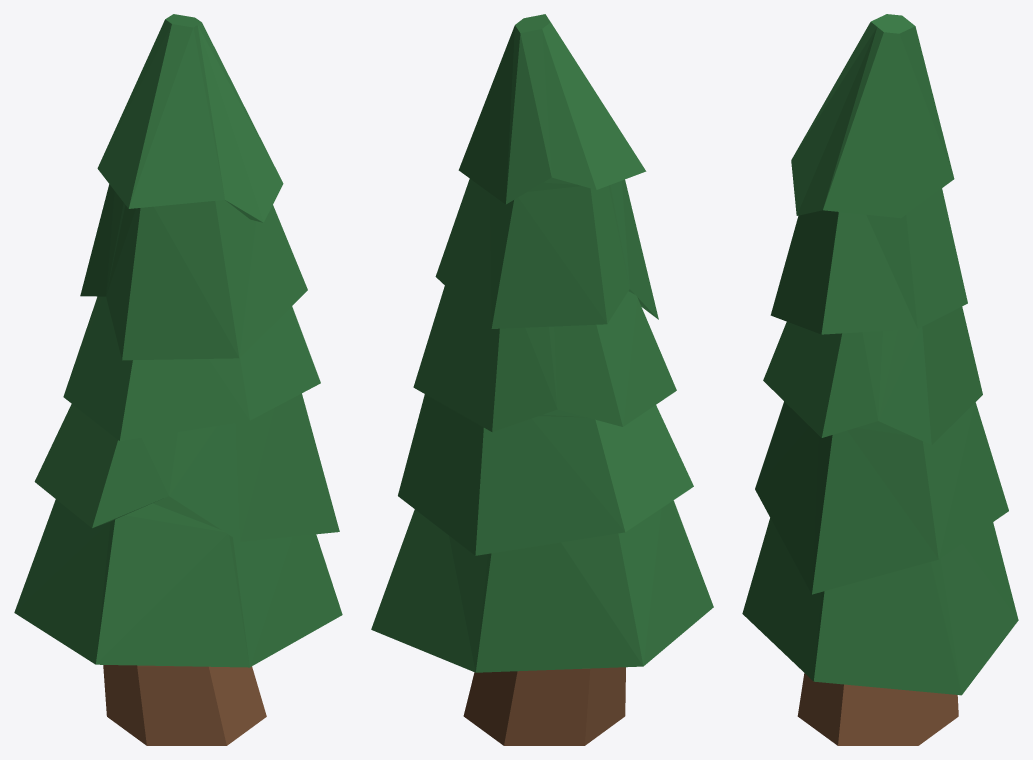
Rendered from pine01.fbx.
3 renders of one model, left to right at view 1: azimuth 30°, elevation 25°; view 2: azimuth 150°, elevation 25°; view 3: azimuth 270°, elevation 25°, orthographic.
Visible parts, largest first — view 1: pine01_LOD0; view 2: pine01_LOD0; view 3: pine01_LOD0.
Boxes of the visible parts, box(x1,y1,x2,y2) form: pine01_LOD0: box(14, 14, 342, 745); pine01_LOD0: box(371, 14, 713, 745); pine01_LOD0: box(742, 14, 1018, 745).
Size of what is drawn, in the model's own units: 225 by 562 by 202.
